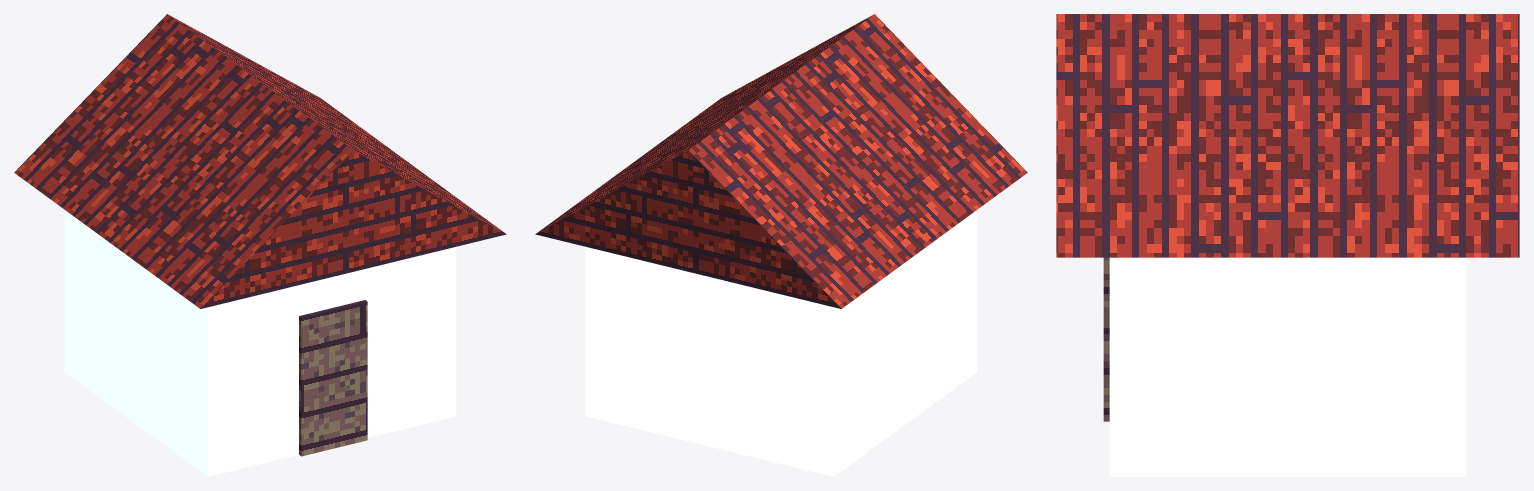
File: a84_estufa_de_vidro.glb
3 views of the same model, side by side, from view 1: azimuth 30°, elevation 25°; view 2: azimuth 150°, elevation 25°; view 3: azimuth 270°, elevation 25° (orthographic). The views are drawn at different scales.
Visible parts, largest first — view 1: a84_estufa_de_vidro; view 2: a84_estufa_de_vidro; view 3: a84_estufa_de_vidro.
Part boxes in pixels (x1=…): a84_estufa_de_vidro: x1=14, y1=14, x2=506, y2=476; a84_estufa_de_vidro: x1=535, y1=14, x2=1027, y2=476; a84_estufa_de_vidro: x1=1056, y1=14, x2=1519, y2=476.
Bounding box in the file's own units: 3.7 × 3.6 × 3.9.
Materials: 3 (2 with a texture image).
